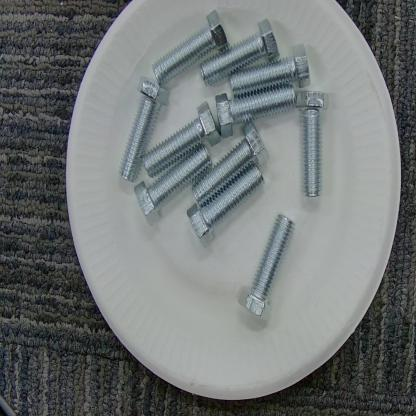FOD: (115, 7, 333, 326)
